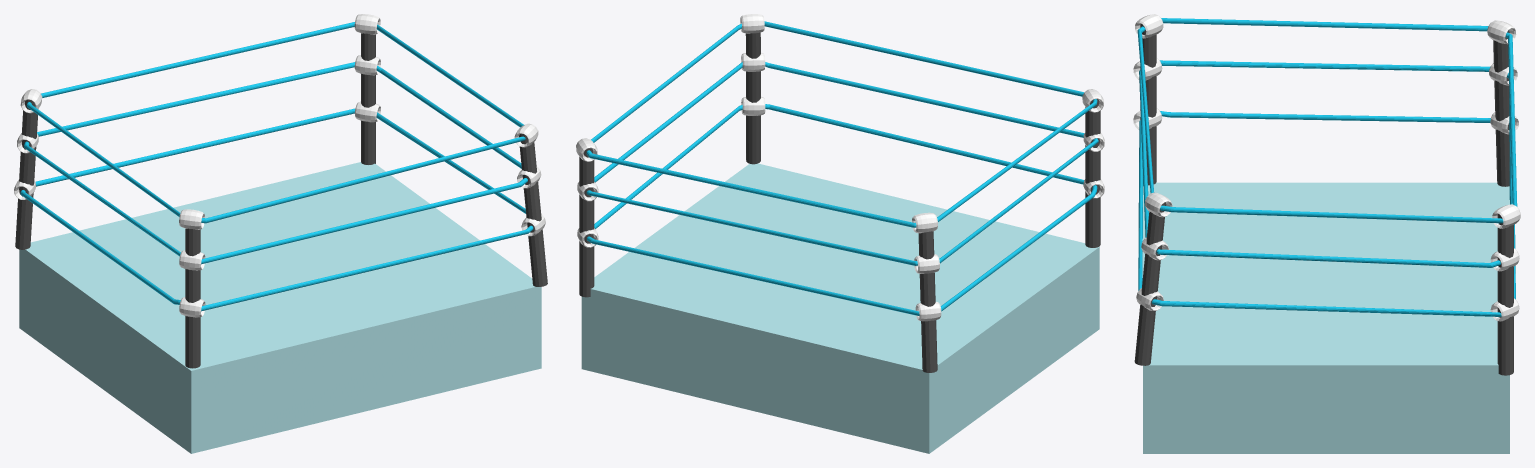
The model's file is Square.fbx.
The picture shows the model from 3 angles, left to right: view 1: azimuth 30°, elevation 25°; view 2: azimuth 150°, elevation 25°; view 3: azimuth 270°, elevation 25°; orthographic projection. The views are drawn at different scales.
Parts seen in each view (by area): view 1: model; view 2: model; view 3: model.
Boxes of the visible parts, x1,y1,x2,y2 form: model: (14,14,547,453); model: (576,14,1104,453); model: (1133,14,1520,453).
Size of the model in its own units: 333 by 208 by 285.
